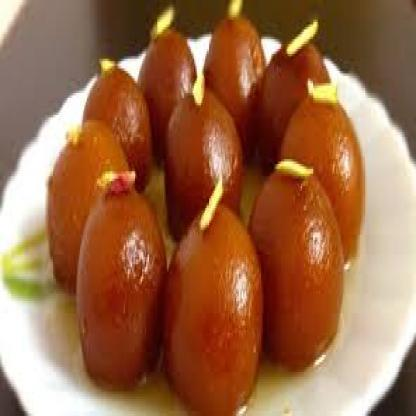gulab_jamun: (162, 203, 262, 416), (249, 168, 344, 369), (77, 193, 167, 391), (48, 121, 130, 294), (281, 94, 365, 262), (165, 92, 244, 244), (256, 41, 331, 177), (83, 67, 153, 194), (204, 17, 266, 160), (139, 30, 198, 158)
